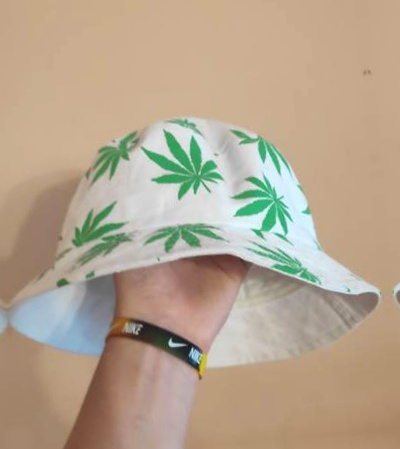Hat: (0, 82, 390, 388), (371, 48, 400, 354), (0, 117, 9, 422)
